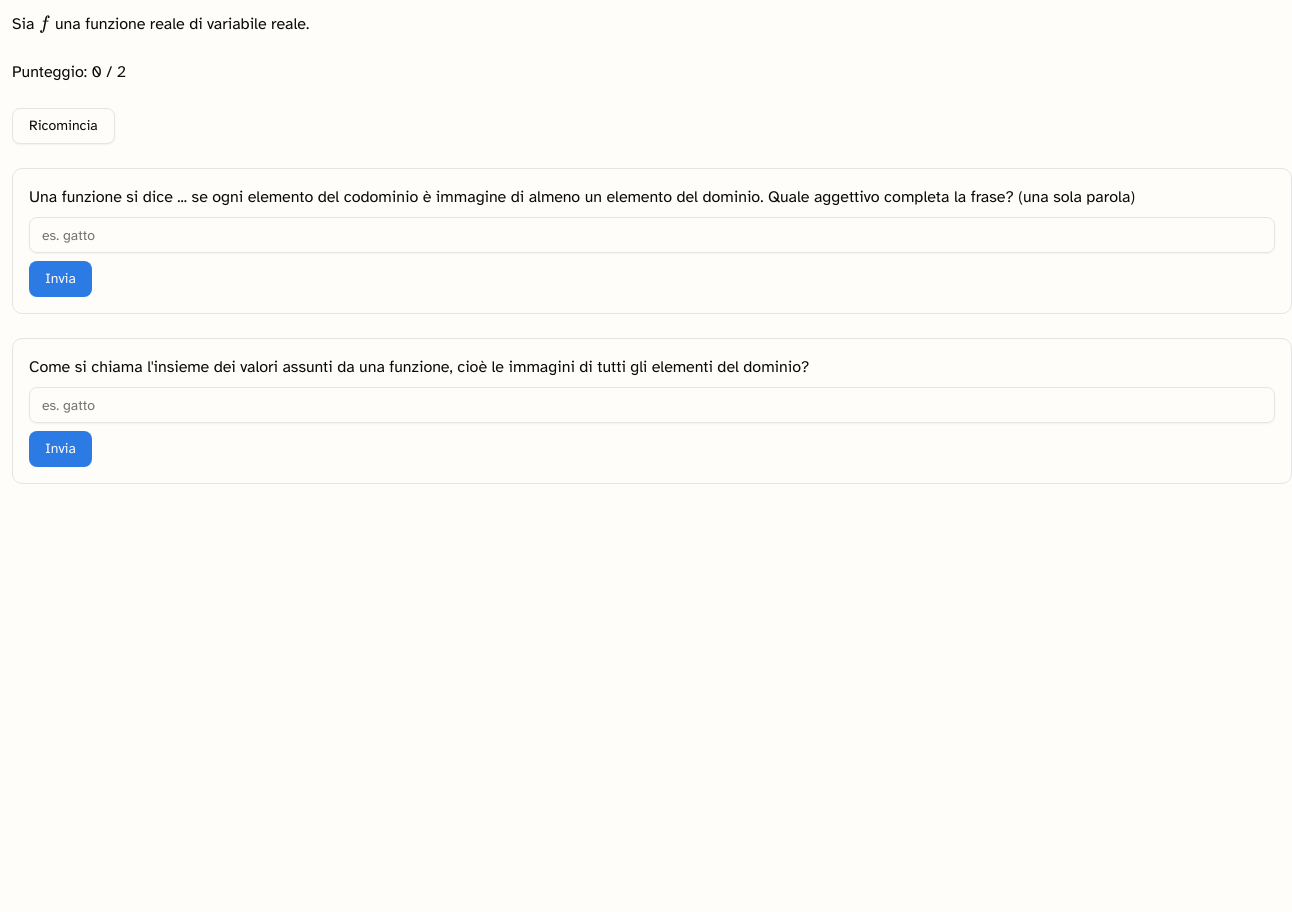
Test: PlayerEsercizio — ripasso dopo un errore › su un esercizio senza soluzione scritta si salta il primo passo
The image size is (1292, 912).
Type "x" into the 1st field with placeholder "es. gatto". click: [652, 235]
box: [29,217,1275,253]
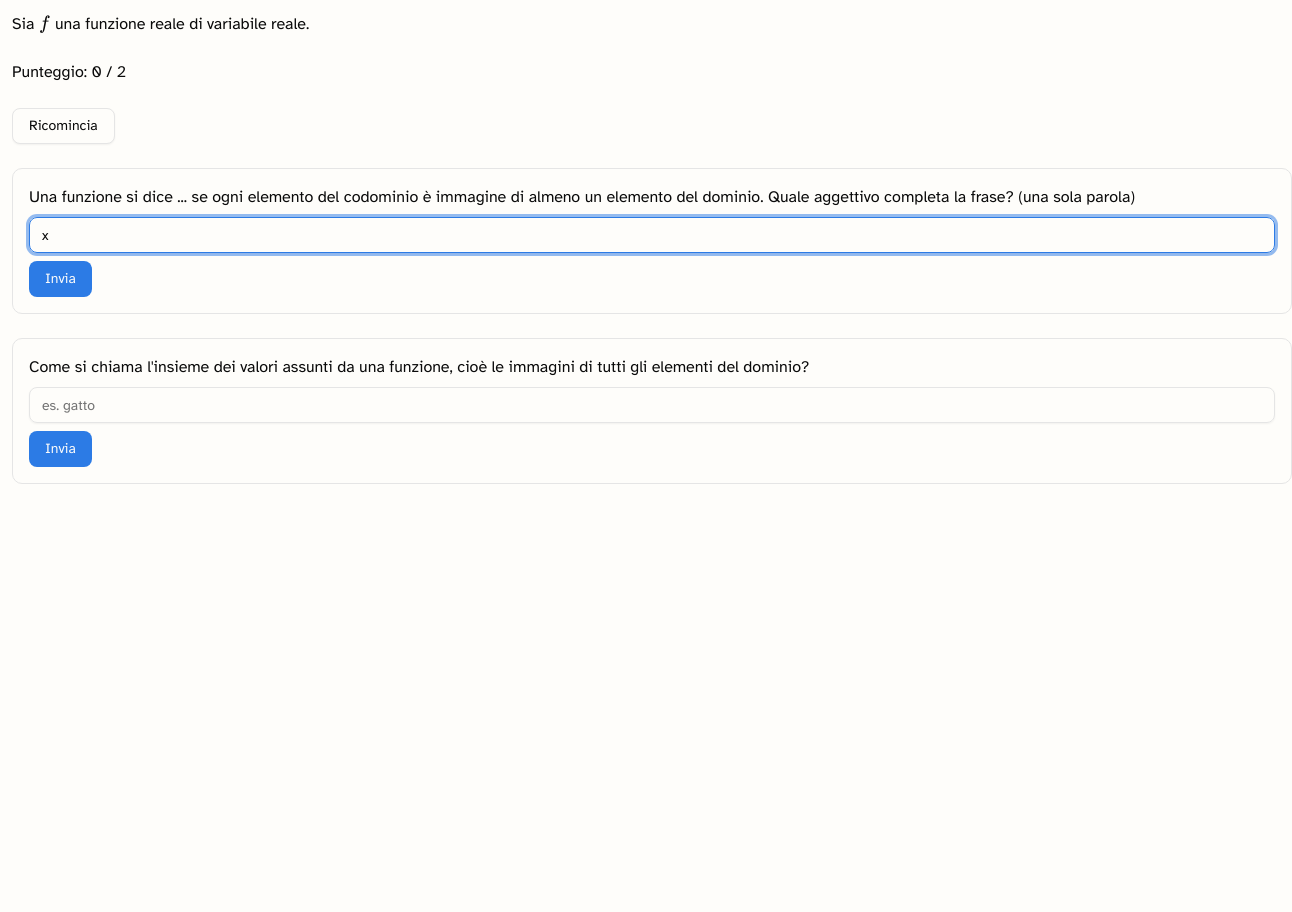
Type "y" into the field with placeholder "es. gatto". click: [652, 405]
box: [29,387,1275,423]
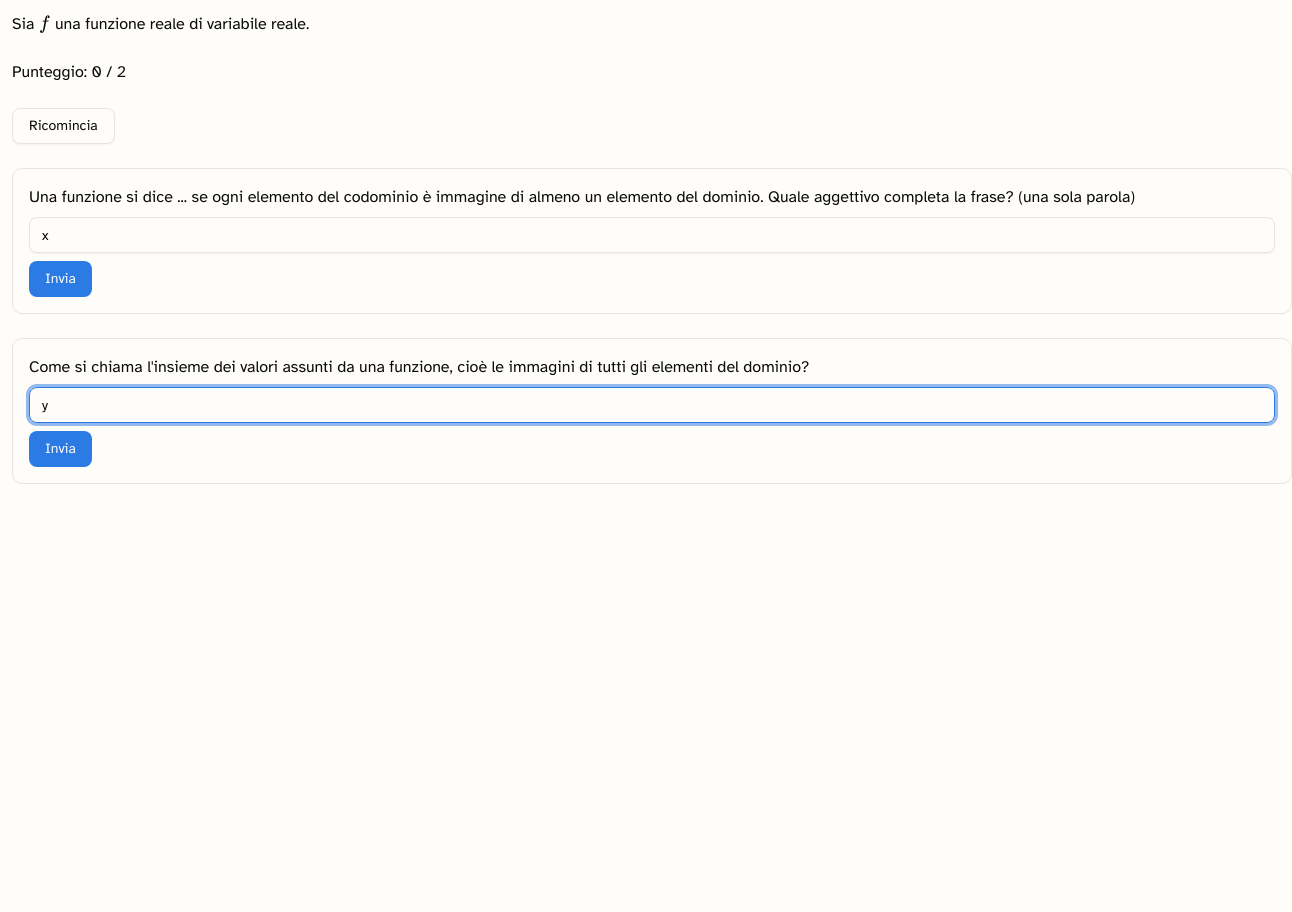
Click the 1st button "Invia". click: [60, 279]
box: [29,261,92,297]
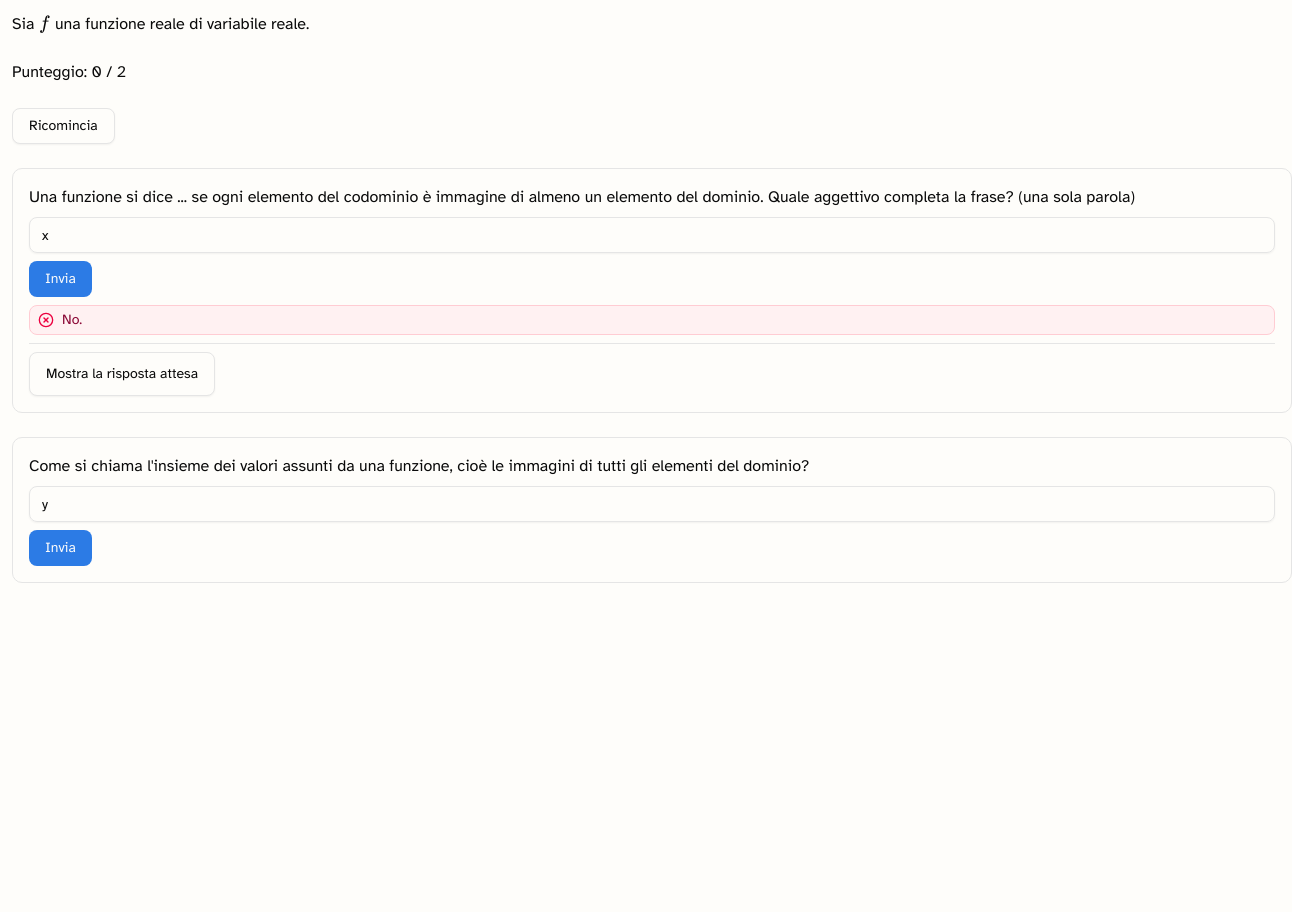
Click the 2nd button "Invia". click: [60, 548]
box: [29,530,92,566]
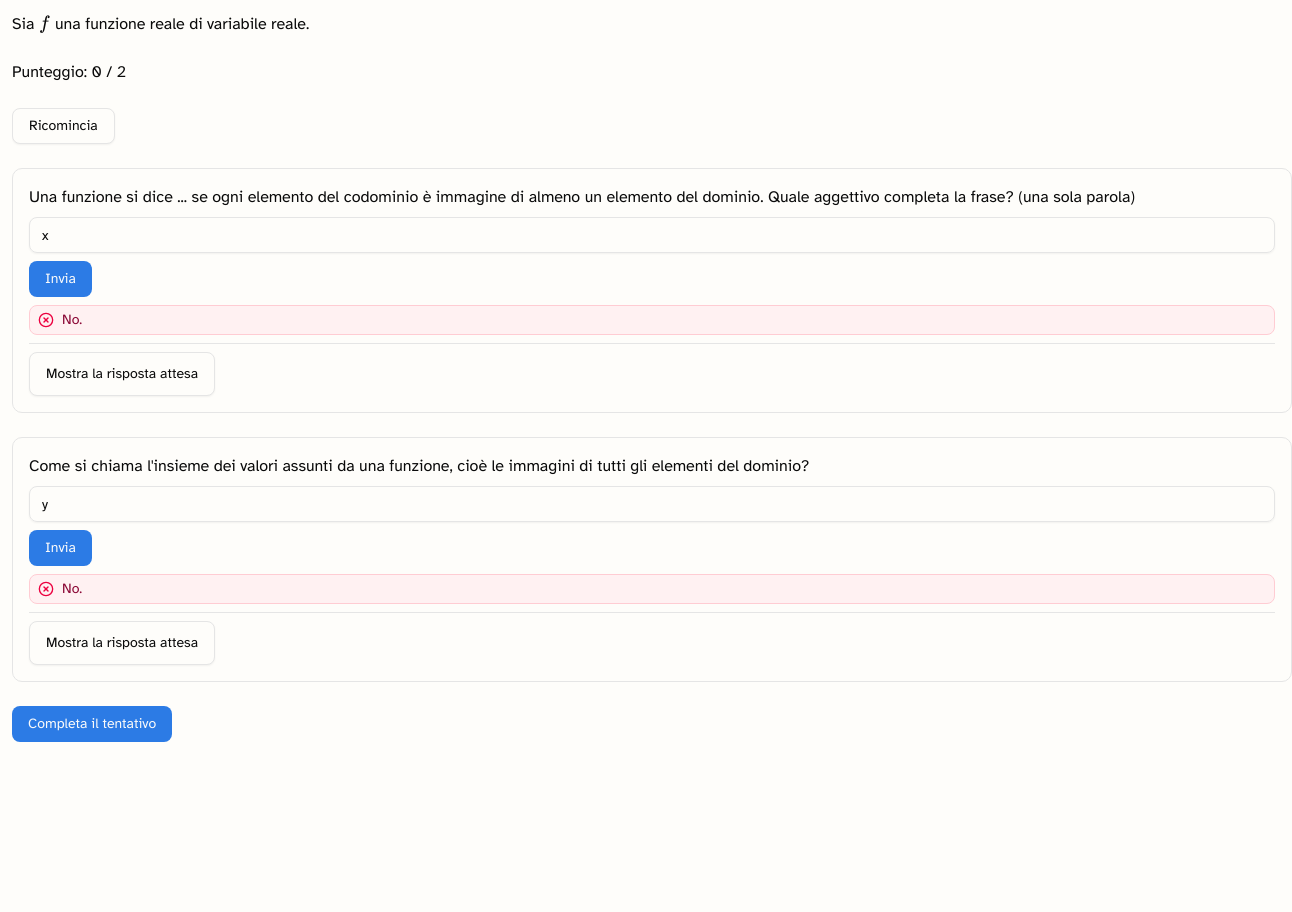
Expected: the number of buttons "Mostra la risposta attesa" is 2
Click the 1st button "Mostra la risposta attesa". click: [122, 374]
box: [29,352,215,396]
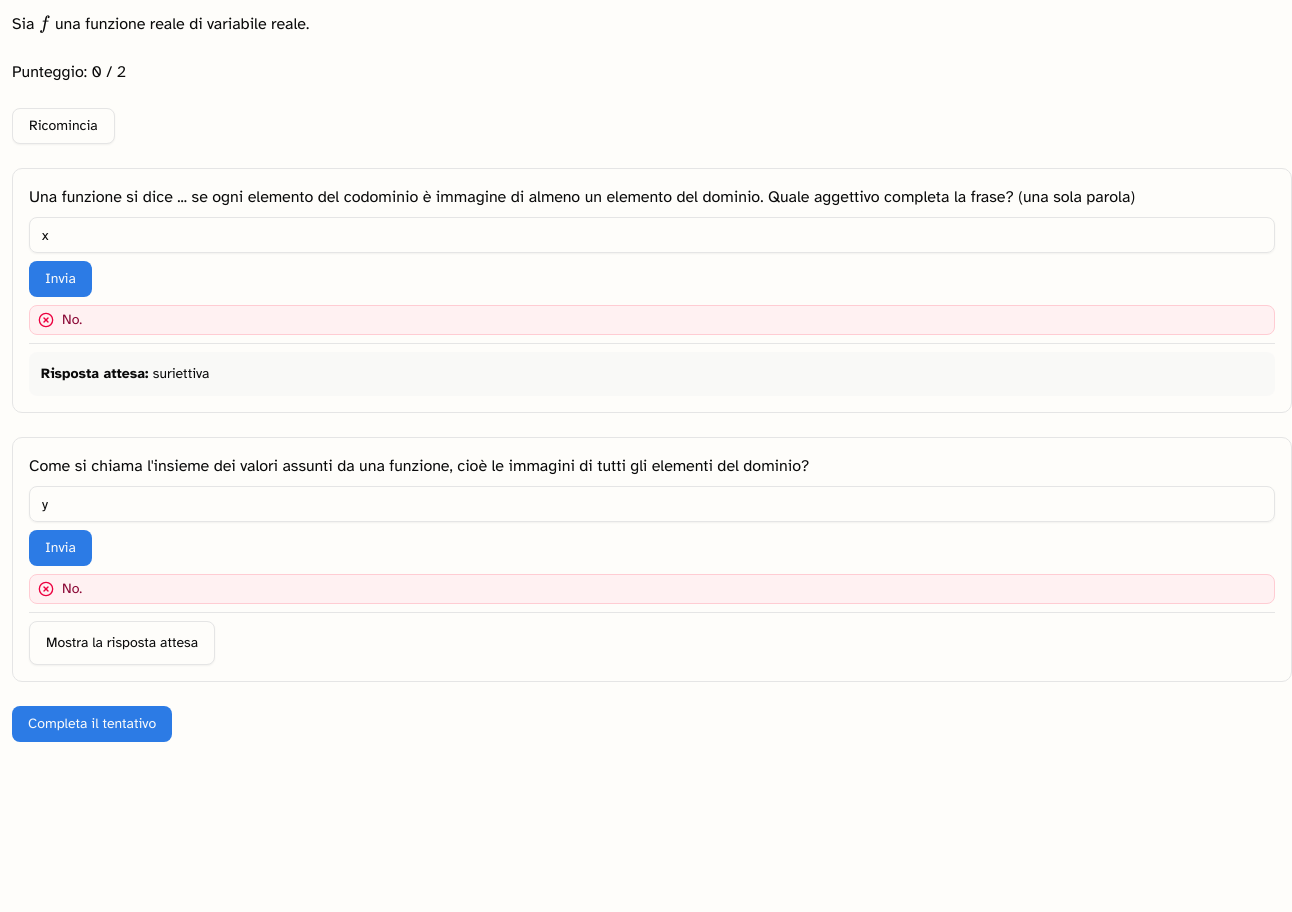
Expected: the text "suriettiva" is shown, [153,365,209,382]
Click the button "Mostra la risposta attesa". click: [122, 643]
box: [29,621,215,665]
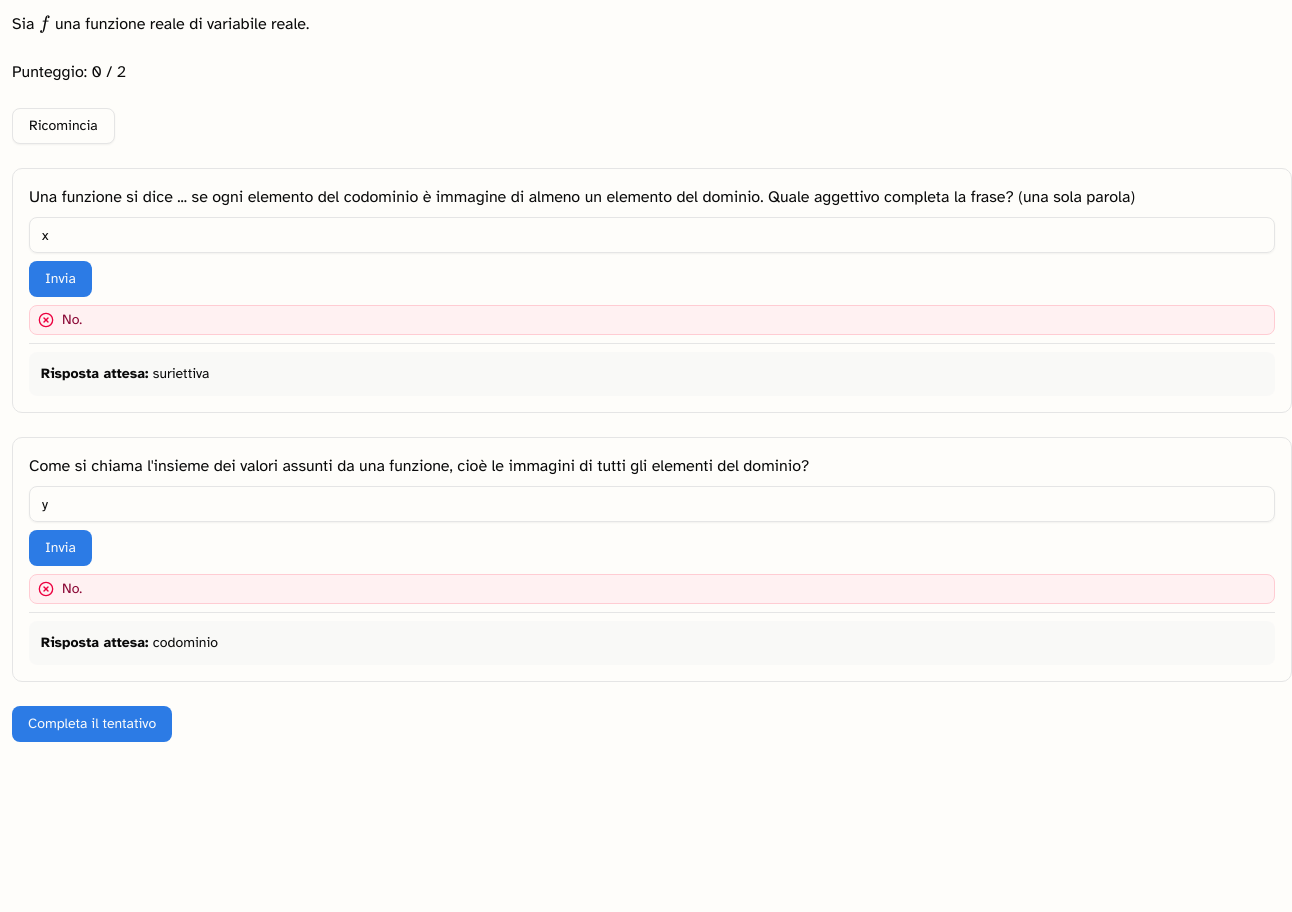
Expected: the text "codominio" is shown, [153,634,218,651]
